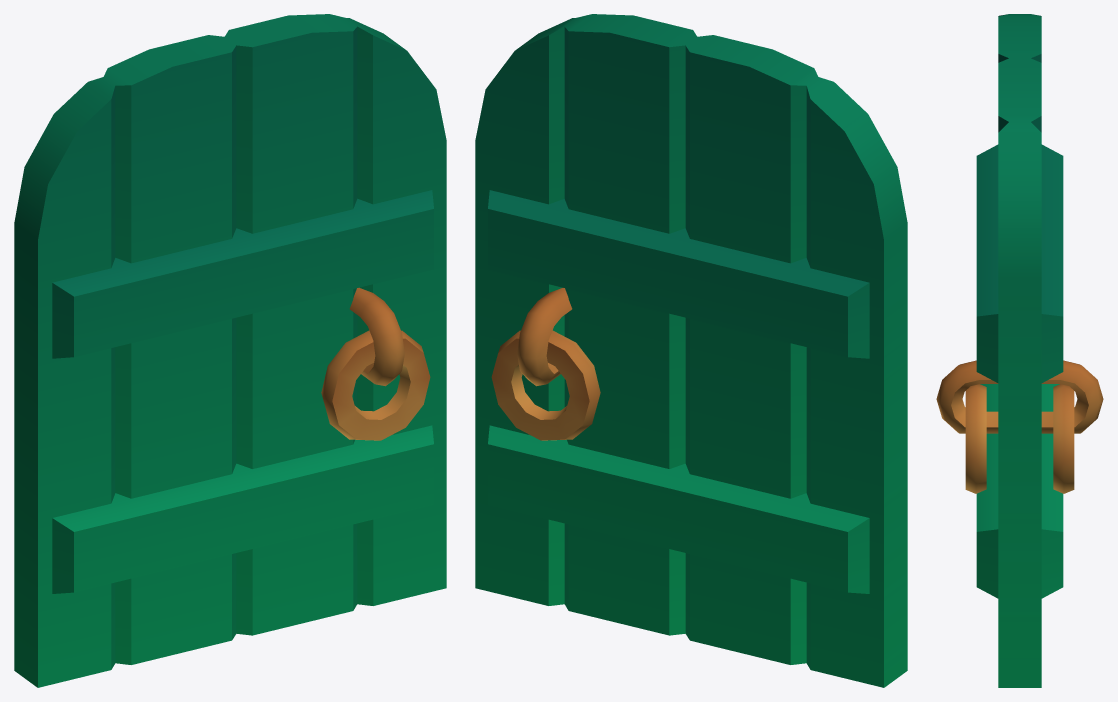
The model's file is wall_doorway_scaffold_door.glb.
3 views of the same model, side by side, from view 1: azimuth 30°, elevation 25°; view 2: azimuth 150°, elevation 25°; view 3: azimuth 270°, elevation 25° (orthographic). The views are drawn at different scales.
Visible parts, largest first — view 1: wall_doorway_scaffold_door; view 2: wall_doorway_scaffold_door; view 3: wall_doorway_scaffold_door.
Part boxes in pixels (<box>): wall_doorway_scaffold_door: <box>14,14,446,687</box>; wall_doorway_scaffold_door: <box>475,14,907,687</box>; wall_doorway_scaffold_door: <box>936,14,1103,687</box>.
Size of the model in its own units: 2 by 2.75 by 0.7735.
Materials: 1 (1 with a texture image).
